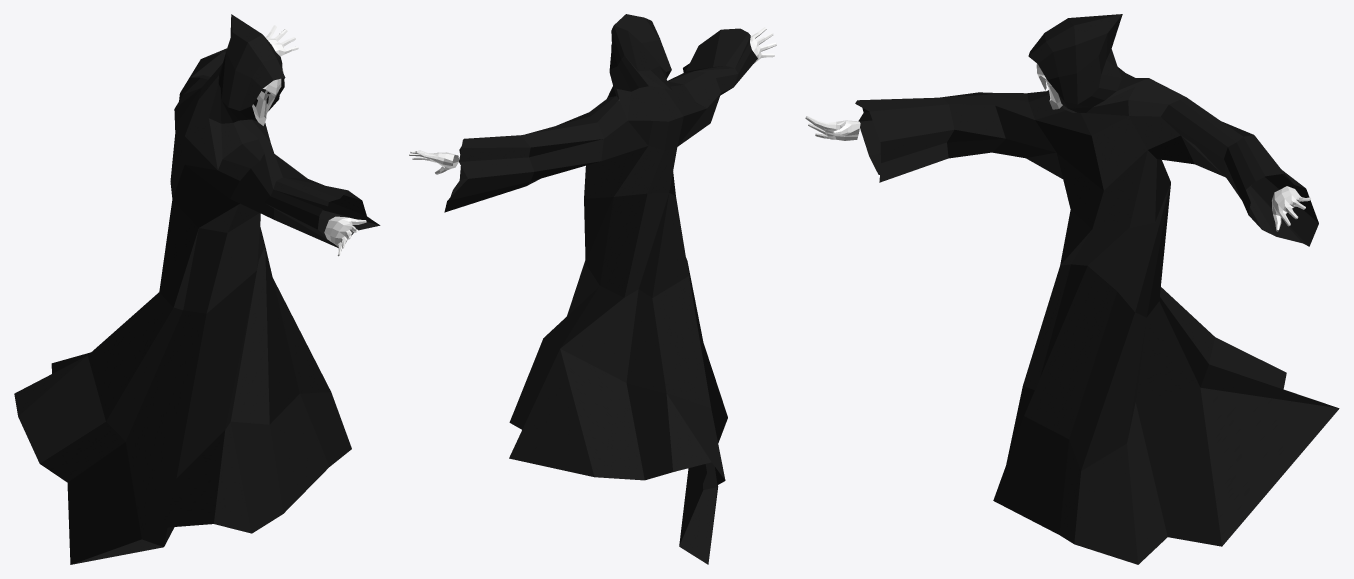
The model's file is ReaperAttack(27).obj.
3 renders of one model, left to right at view 1: azimuth 30°, elevation 25°; view 2: azimuth 150°, elevation 25°; view 3: azimuth 270°, elevation 25°, orthographic. The views are drawn at different scales.
Parts seen in each view (by area): view 1: Plane003; view 2: Plane003; view 3: Plane003.
Boxes of the visible parts, bbox=[...] form: Plane003: bbox=[14, 14, 380, 564]; Plane003: bbox=[409, 14, 776, 564]; Plane003: bbox=[805, 14, 1339, 564].
Bounding box in the file's own units: 138 × 233 × 194.
